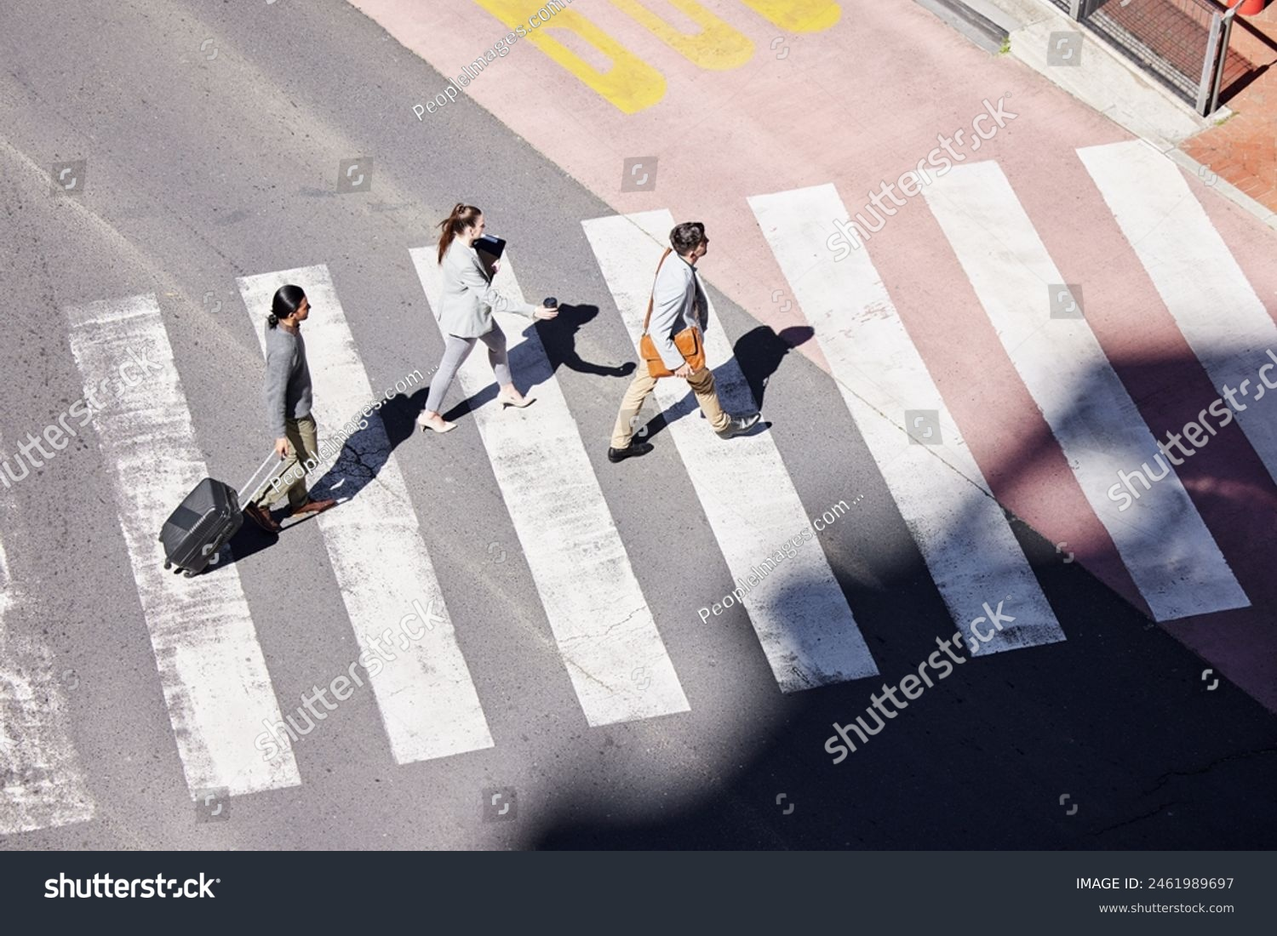Crosswalk: (753, 177, 1277, 624), (345, 461, 1166, 710)
Person: (605, 224, 776, 464), (418, 198, 561, 447), (245, 282, 342, 525)
